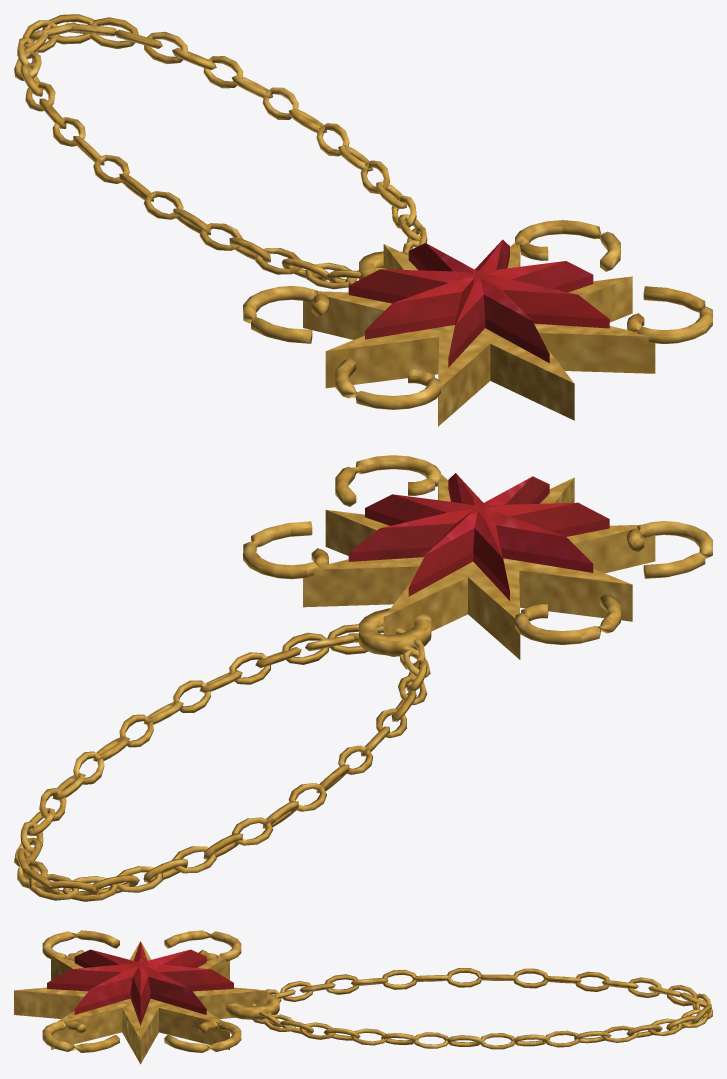
The model's file is item_6amulet6.glb.
3 renders of one model, top to bottom at view 1: azimuth 30°, elevation 25°; view 2: azimuth 150°, elevation 25°; view 3: azimuth 270°, elevation 25°, orthographic. The views are drawn at different scales.
Visible parts, largest first — view 1: amulet_6amulet6; view 2: amulet_6amulet6; view 3: amulet_6amulet6.
Part boxes in pixels (x1=…): amulet_6amulet6: x1=14, y1=14, x2=712, y2=426; amulet_6amulet6: x1=14, y1=455, x2=712, y2=901; amulet_6amulet6: x1=14, y1=930, x2=712, y2=1064.
Bounding box in the file's own units: 0.9203 × 0.1911 × 2.32.
2 materials, 2 textured.
